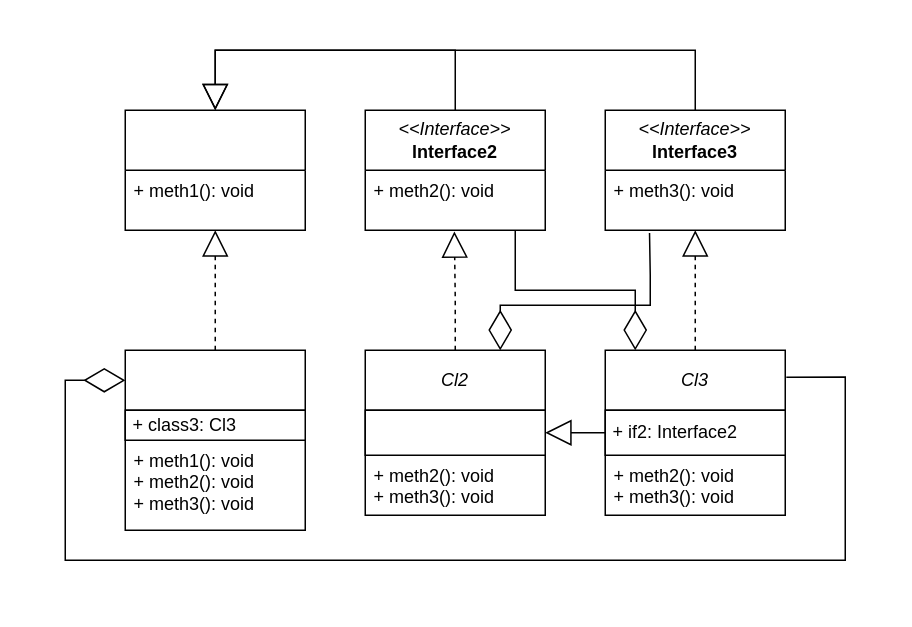
Image size: 912x627. Some labels were removed from this diagram. The shapes that lost their labels are listed below. From the top down, each one's box as (x1, y1, x2, y2) in pixels, then its label:
(124, 109, 305, 230): <<Interface>> lnterface1
(124, 349, 305, 530): Cl1
(364, 409, 545, 455): + if3: Interface3
